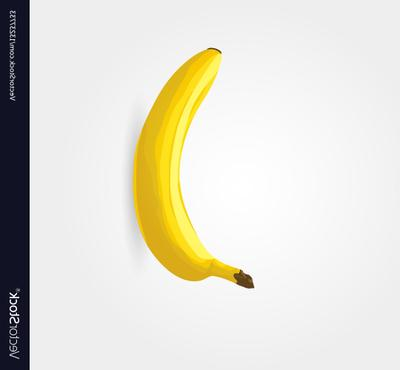banana: (0, 0, 400, 370)
